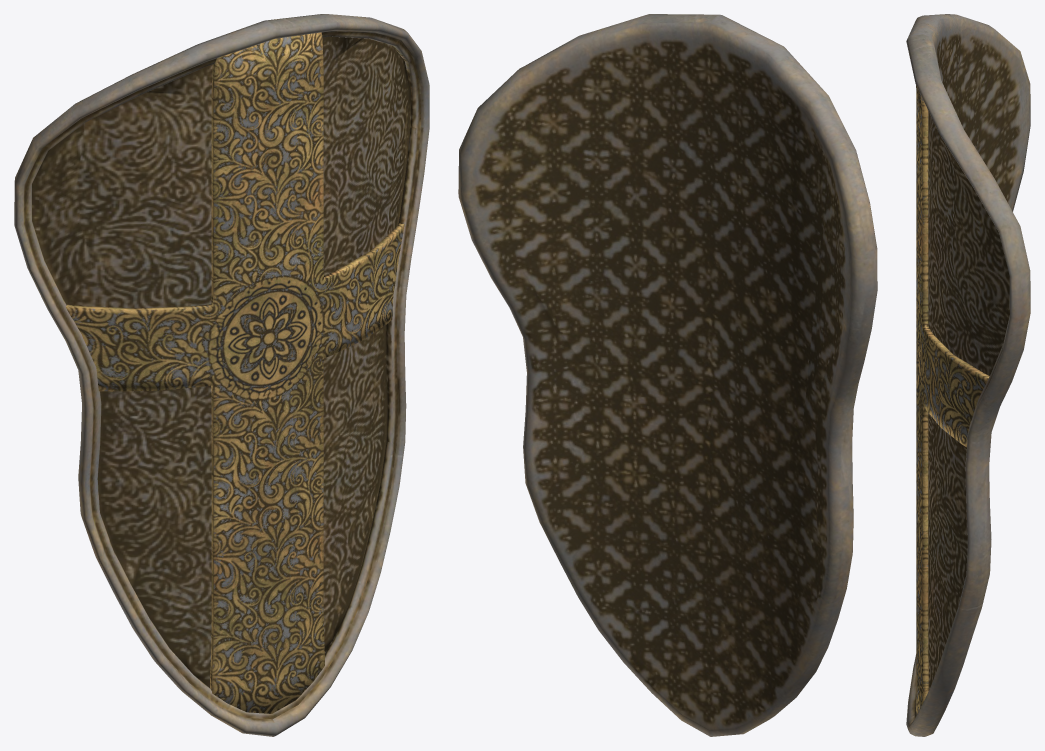
The model's file is shield.glb.
The picture shows the model from 3 angles, left to right: view 1: azimuth 30°, elevation 25°; view 2: azimuth 150°, elevation 25°; view 3: azimuth 270°, elevation 25°; orthographic projection. The views are drawn at different scales.
Parts seen in each view (by area): view 1: defaultMaterial.002, defaultMaterial.004; view 2: defaultMaterial.002; view 3: defaultMaterial.002, defaultMaterial.004.
Part boxes in pixels (left/top/right/bottom): defaultMaterial.002: left=14, top=14, right=429, bottom=736; defaultMaterial.004: left=65, top=32, right=404, bottom=713; defaultMaterial.002: left=458, top=14, right=877, bottom=736; defaultMaterial.002: left=906, top=14, right=1030, bottom=736; defaultMaterial.004: left=916, top=85, right=989, bottom=713.
Bounding box in the file's own units: 0.6677 × 1.1 × 0.1775.
2 materials, 2 textured.
